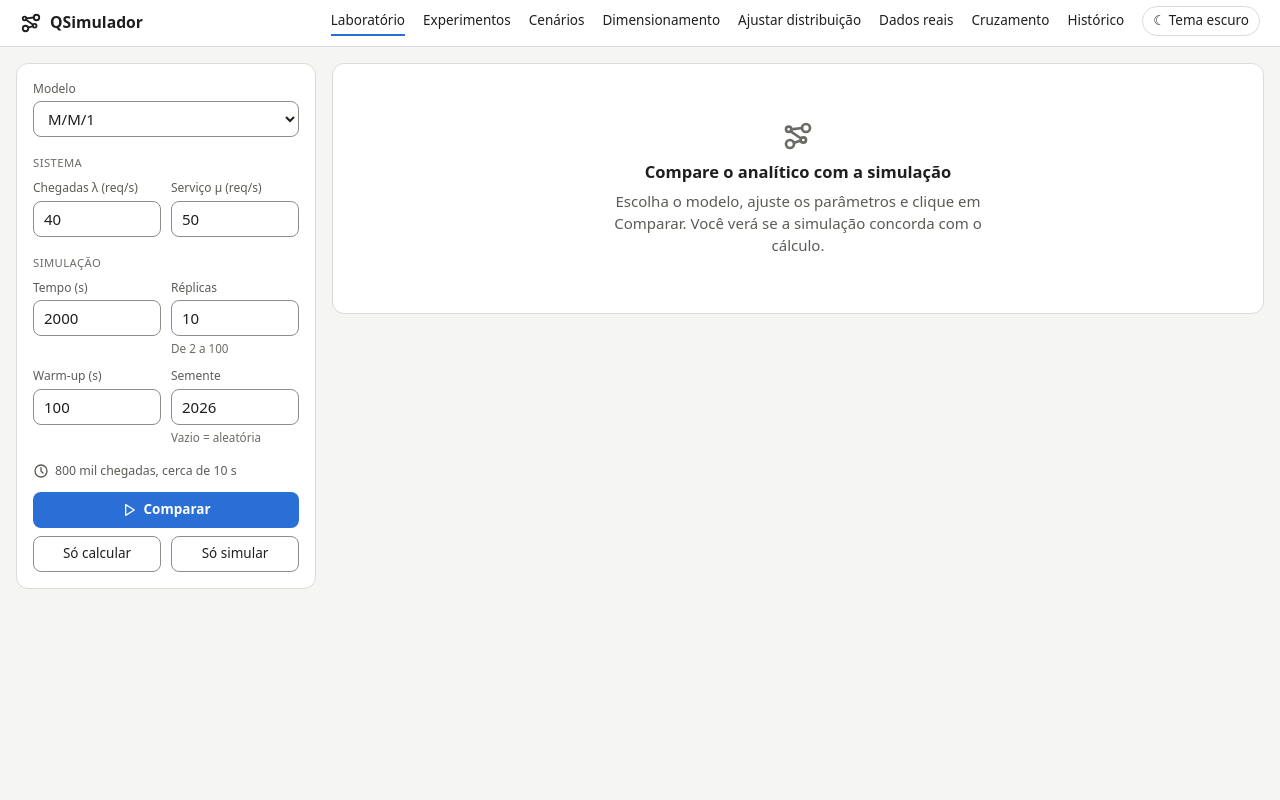
Test: navegação › Experimentos mostra os três tipos e esconde o Laboratório
Select "M/M/1" in the dropdown labelled "Modelo". click: x=166, y=119
box: [33, 101, 299, 137]
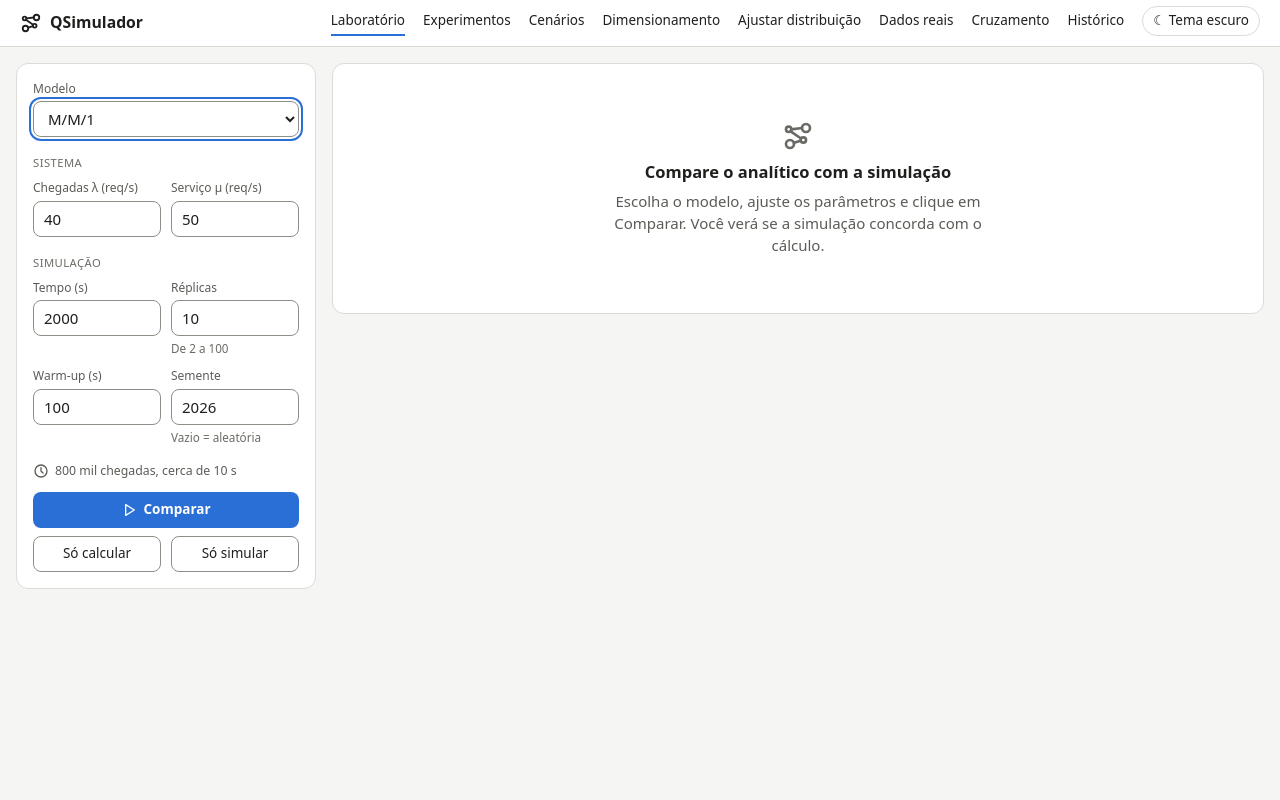
Click the button "Experimentos". click: x=467, y=23
box: [423, 10, 511, 36]
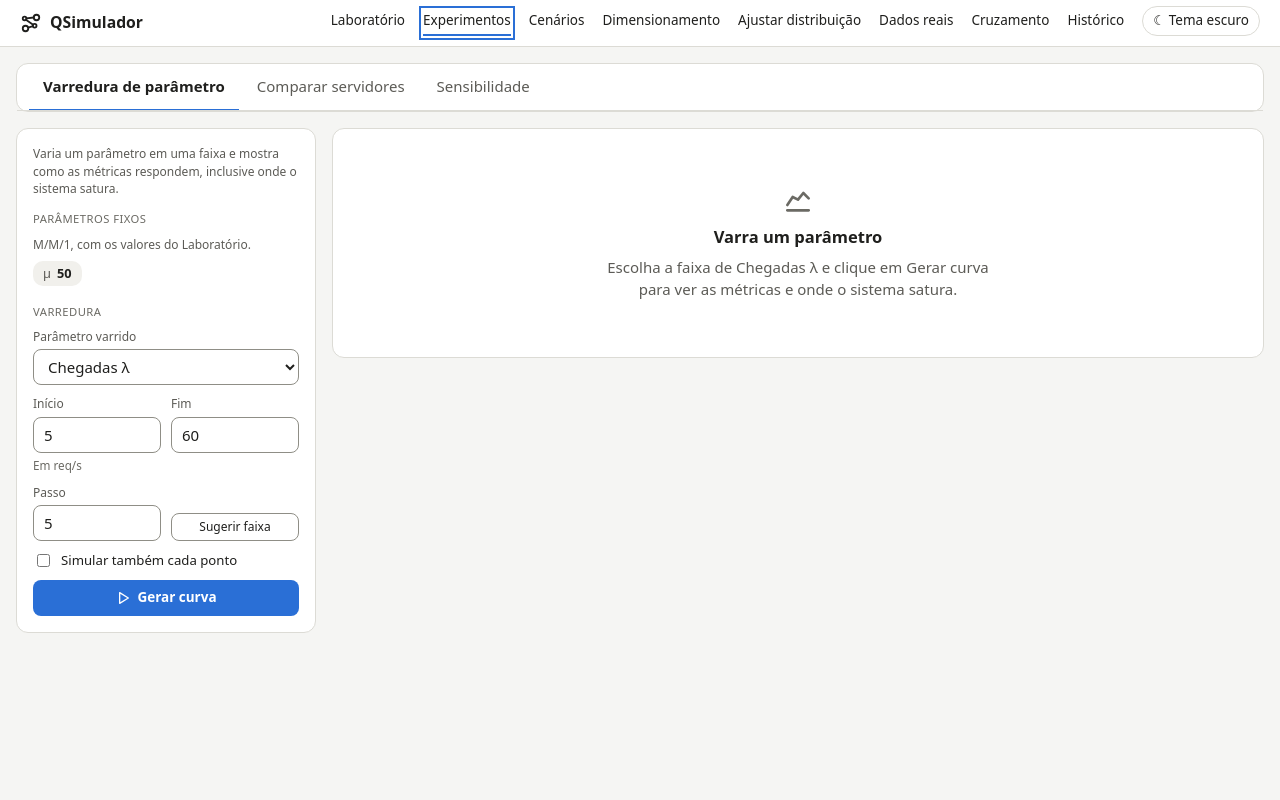
Expected: the tabs read "Varredura de parâmetro", "Comparar servidores", "Sensibilidade", in this order, [29, 64, 239, 111]; [243, 64, 419, 111]; [423, 64, 544, 111]
Expected: the form "Parâmetros do modelo" is gone
